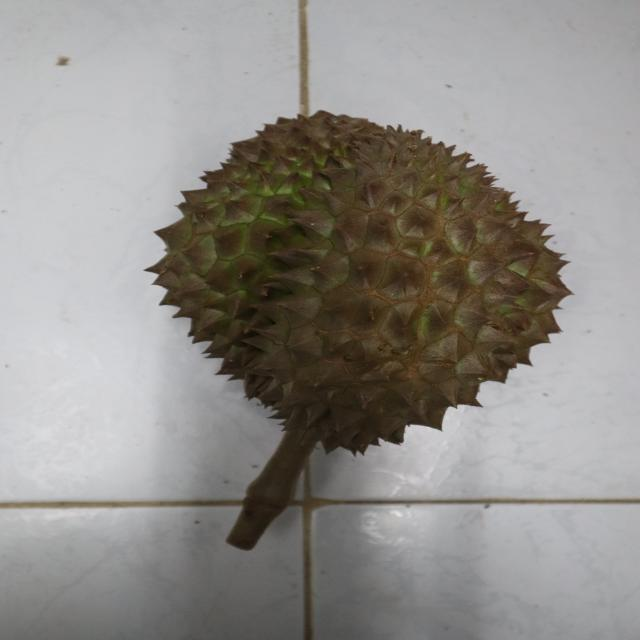mature: (140, 105, 567, 460)
